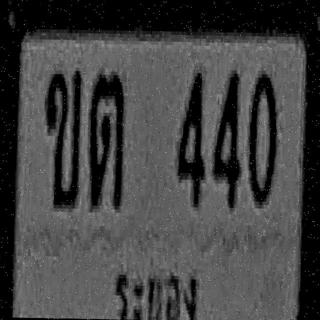A02: (44, 68, 82, 207)
A21: (88, 71, 124, 206)
N00: (248, 70, 278, 205)
N04: (176, 71, 205, 205), (212, 68, 240, 206)
P53: (108, 254, 202, 320)
